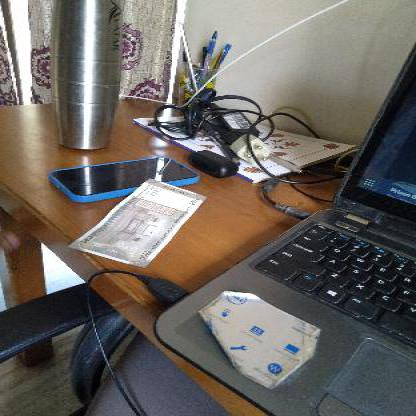New500Back: (77, 176, 206, 268)
